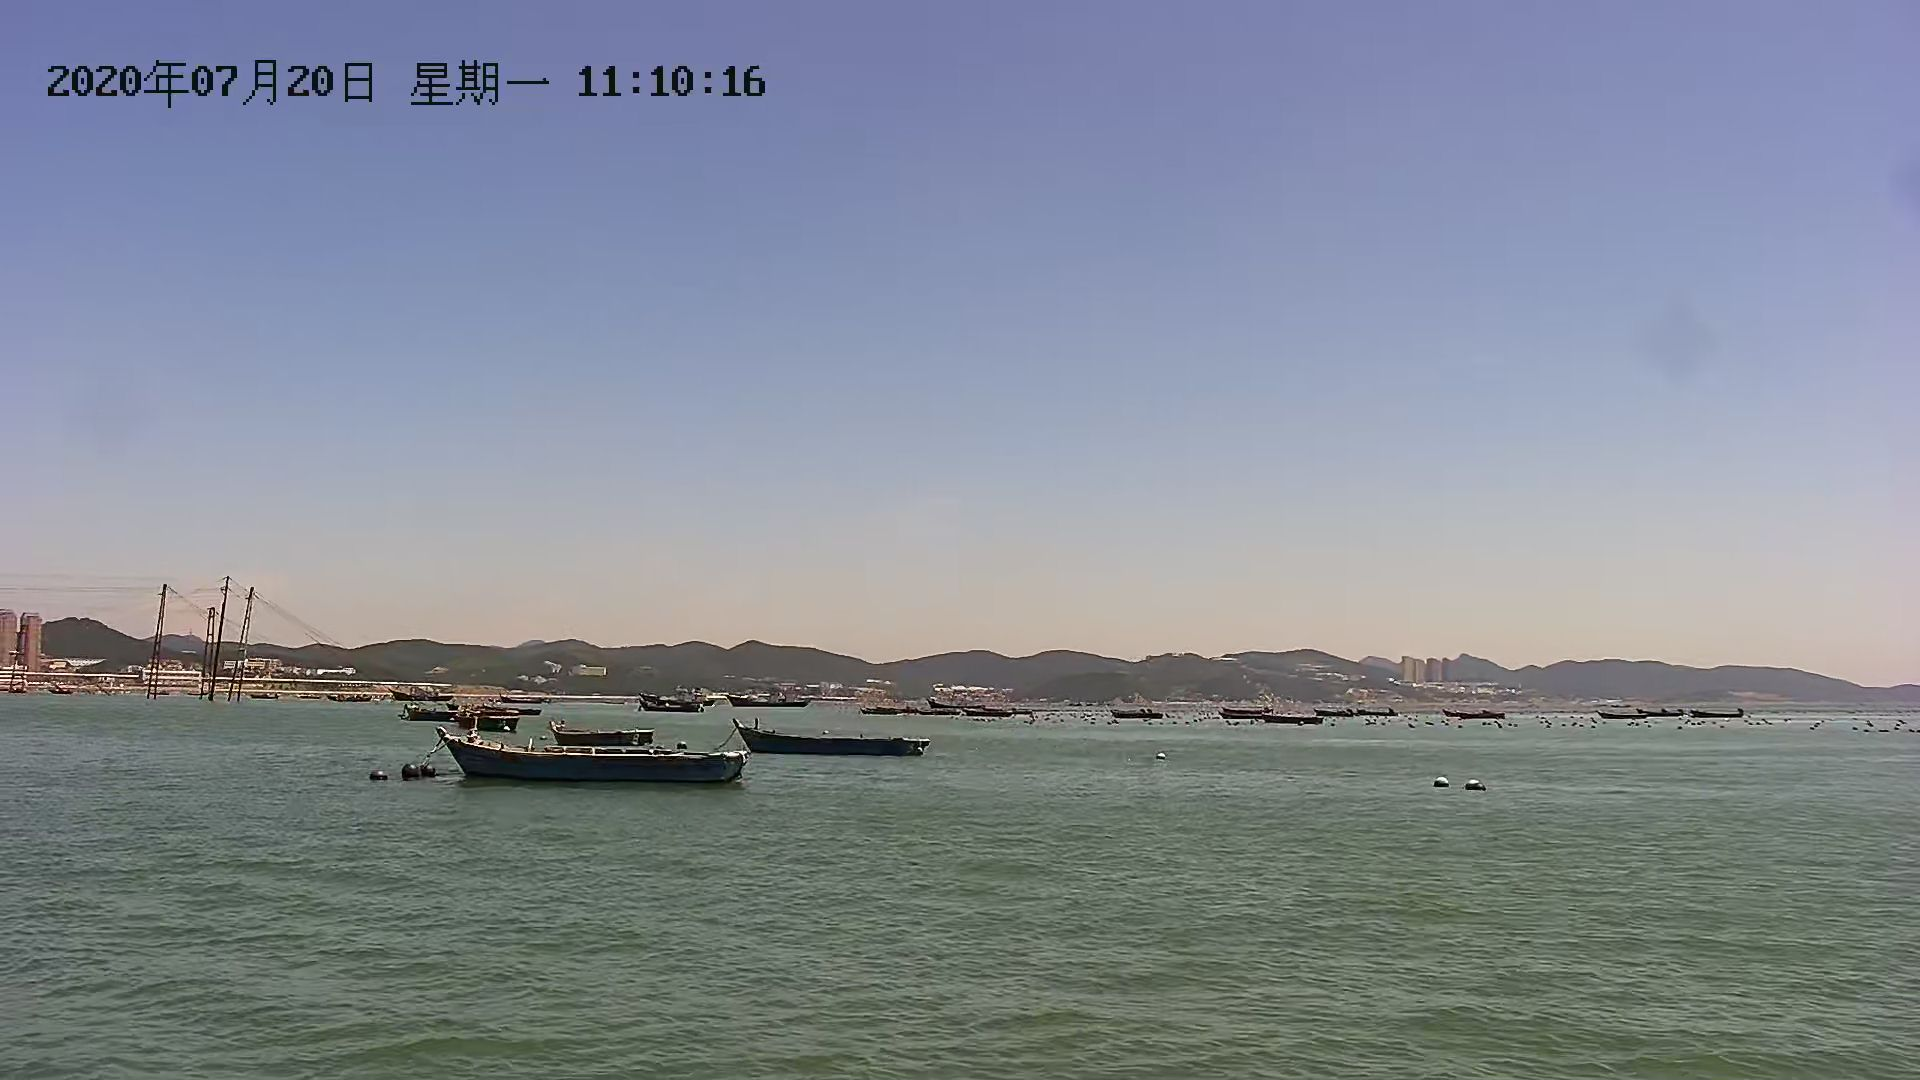ball: (1425, 775, 1455, 791), (1462, 781, 1491, 796)
boat: (431, 717, 754, 790), (731, 720, 934, 761), (400, 691, 531, 731), (543, 715, 666, 741)
